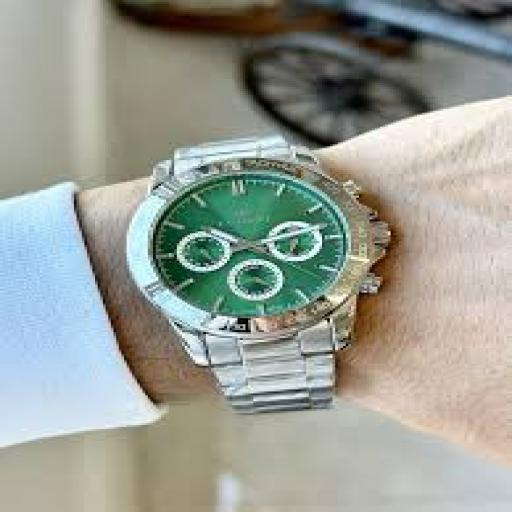KolSaati: (87, 117, 438, 456)
